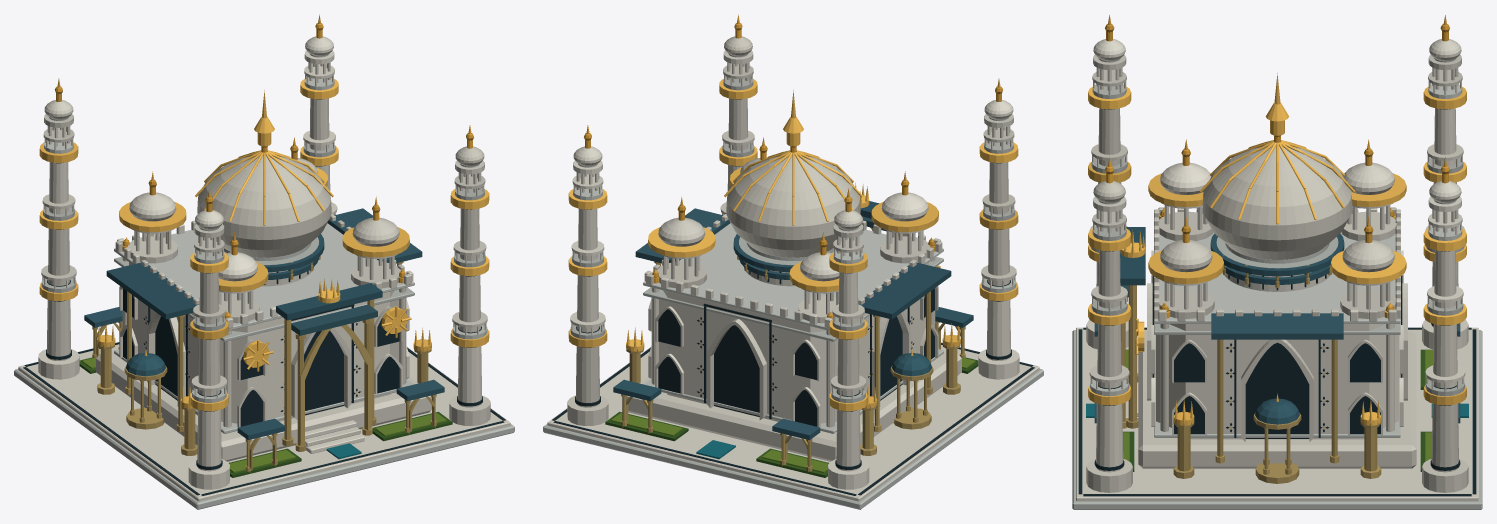
3 renders of one model, left to right at view 1: azimuth 30°, elevation 25°; view 2: azimuth 150°, elevation 25°; view 3: azimuth 270°, elevation 25°, orthographic. The views are drawn at different scales.
Visible parts, largest first — view 1: fort_L13_0, fort_L13_1; view 2: fort_L13_0, fort_L13_1; view 3: fort_L13_0, fort_L13_1.
Part boxes in pixels (x1=…): fort_L13_0: x1=14, y1=23, x2=514, y2=509; fort_L13_1: x1=39, y1=14, x2=489, y2=411; fort_L13_0: x1=543, y1=23, x2=1043, y2=509; fort_L13_1: x1=568, y1=14, x2=1018, y2=411; fort_L13_0: x1=1072, y1=24, x2=1482, y2=509; fort_L13_1: x1=1088, y1=15, x2=1466, y2=428.
Bounding box in the file's own units: 7.6 × 7.18 × 7.6.
